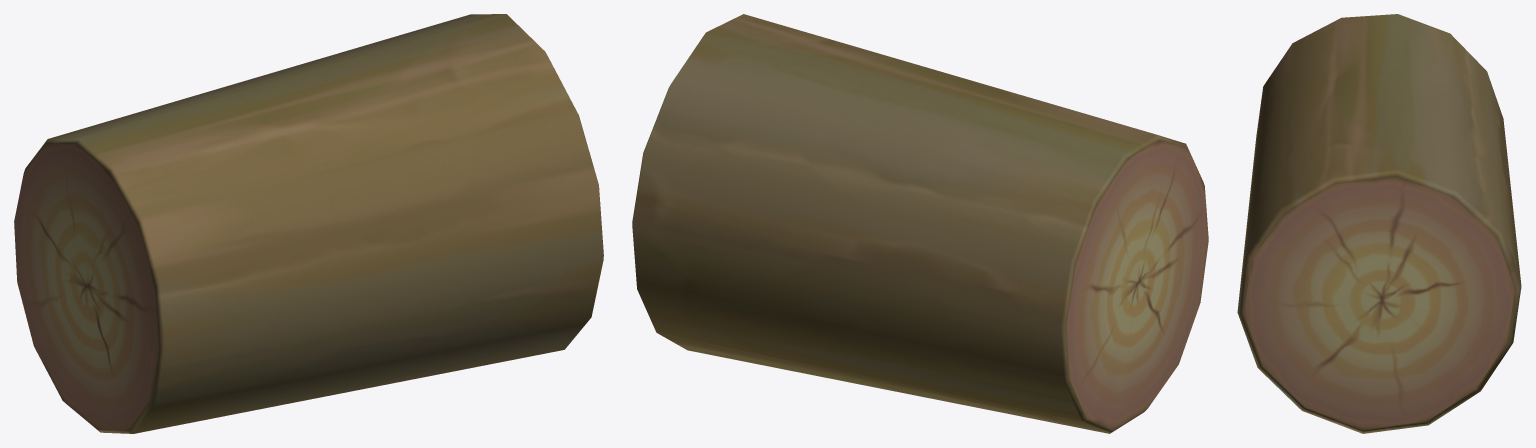
File: m_env_collect_tree_cedar_fir_01_v1.fbx
3 views of the same model, side by side, from view 1: azimuth 30°, elevation 25°; view 2: azimuth 150°, elevation 25°; view 3: azimuth 270°, elevation 25° (orthographic). The views are drawn at different scales.
Visible parts, largest first — view 1: m_env_collect_tree_cedar_fir_01_v1; view 2: m_env_collect_tree_cedar_fir_01_v1; view 3: m_env_collect_tree_cedar_fir_01_v1.
Boxes of the visible parts, x1=… form: m_env_collect_tree_cedar_fir_01_v1: x1=14, y1=14, x2=603, y2=433; m_env_collect_tree_cedar_fir_01_v1: x1=632, y1=14, x2=1208, y2=433; m_env_collect_tree_cedar_fir_01_v1: x1=1237, y1=14, x2=1521, y2=433.
Size of the model in its own units: 58.31 by 41.17 by 39.97.
